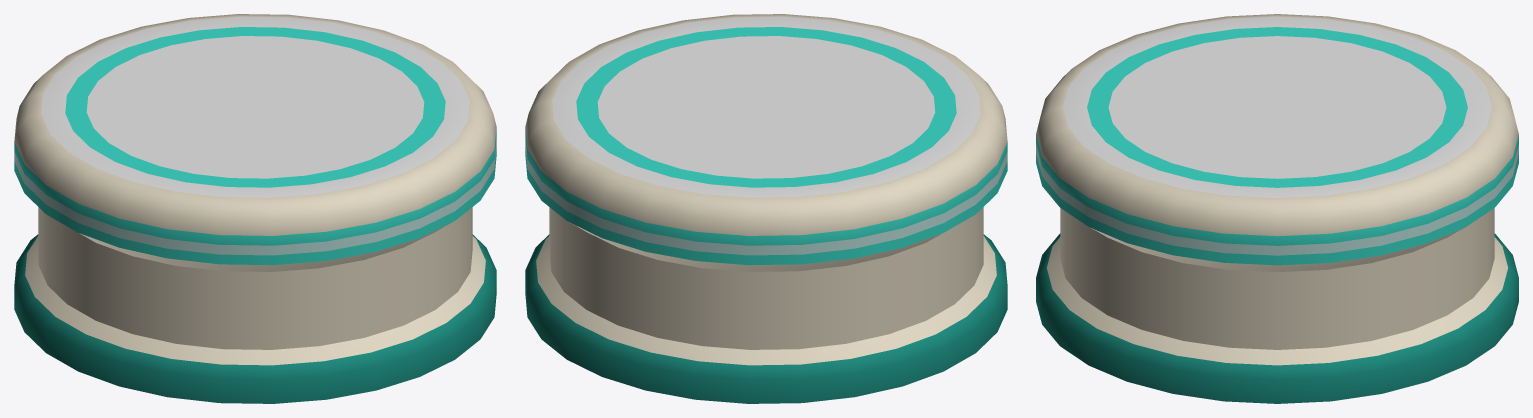
Rendered from tropic-podium.glb.
The picture shows the model from 3 angles, left to right: view 1: azimuth 30°, elevation 25°; view 2: azimuth 150°, elevation 25°; view 3: azimuth 270°, elevation 25°; orthographic projection.
Visible parts, largest first — view 1: tropic-podium; view 2: tropic-podium; view 3: tropic-podium.
Boxes of the visible parts, <box> form: tropic-podium: <box>14,14,496,403</box>; tropic-podium: <box>525,14,1007,403</box>; tropic-podium: <box>1036,14,1518,403</box>.
Bounding box in the file's own units: 0.9 × 0.4 × 0.9.
